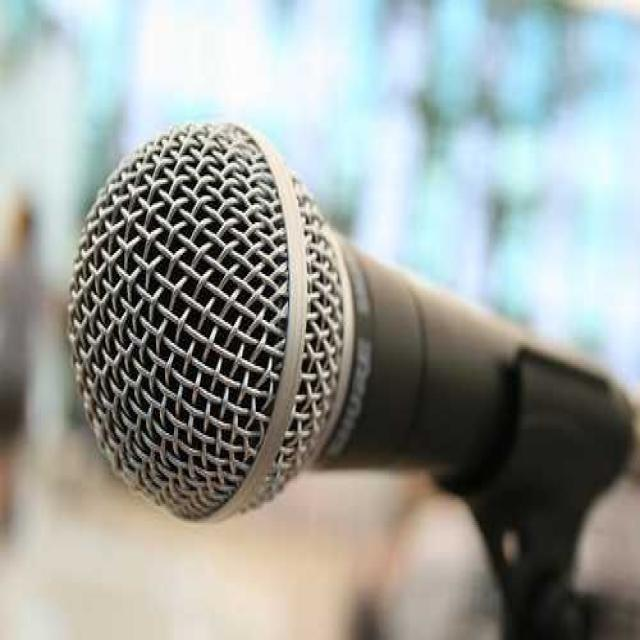microphone: (54, 100, 497, 508)
